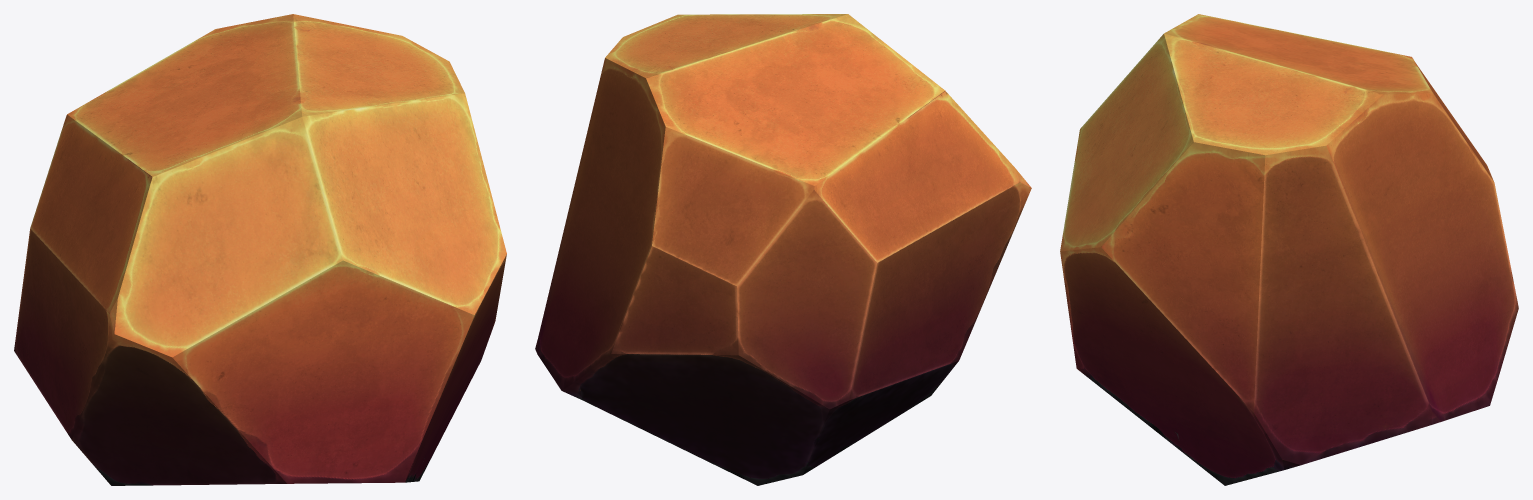
Rendered from M_rocks_05.glb.
3 renders of one model, left to right at view 1: azimuth 30°, elevation 25°; view 2: azimuth 150°, elevation 25°; view 3: azimuth 270°, elevation 25°, orthographic. The views are drawn at different scales.
Parts seen in each view (by area): view 1: M_Rock_05; view 2: M_Rock_05; view 3: M_Rock_05.
Part boxes in pixels (x1,y1,x2,y2): M_Rock_05: [14, 14, 506, 485]; M_Rock_05: [535, 14, 1031, 485]; M_Rock_05: [1060, 14, 1518, 485].
Bounding box in the file's own units: 1.58 × 1.53 × 1.56.
Materials: 1 (1 with a texture image).
